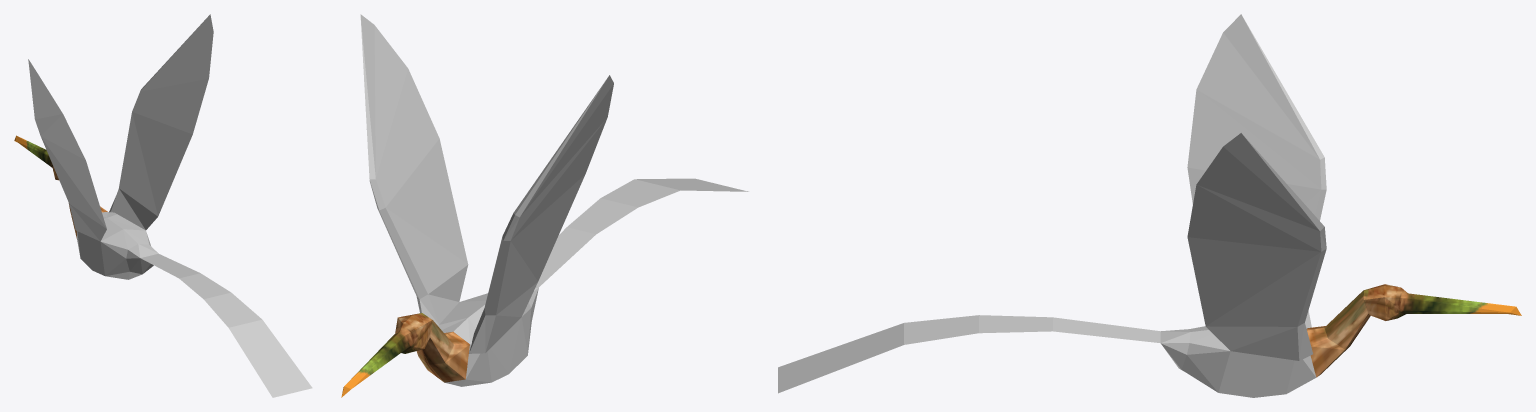
The model's file is bird.obj.
3 views of the same model, side by side, from view 1: azimuth 30°, elevation 25°; view 2: azimuth 150°, elevation 25°; view 3: azimuth 270°, elevation 25° (orthographic). The views are drawn at different scales.
Parts seen in each view (by area): view 1: obj1, Object_1; view 2: obj1, Object_1; view 3: obj1, Object_1.
Boxes of the visible parts, x1,y1,x2,y2 form: obj1: (14, 14, 312, 397); Object_1: (77, 212, 158, 279); obj1: (341, 14, 748, 397); Object_1: (438, 286, 538, 386); obj1: (778, 14, 1521, 393); Object_1: (1160, 326, 1316, 397).
Bounding box in the file's own units: 357 × 451 × 946.
